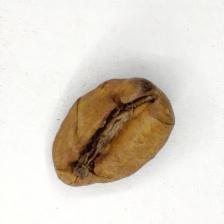NG: (68, 79, 156, 179)
